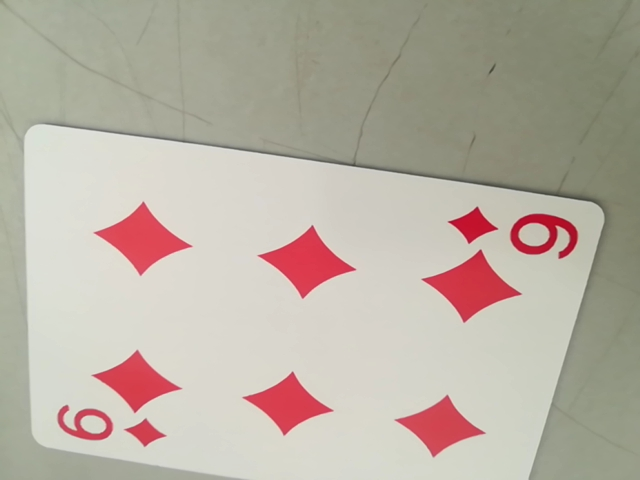fk 6: (446, 203, 580, 259), (49, 402, 171, 455)
